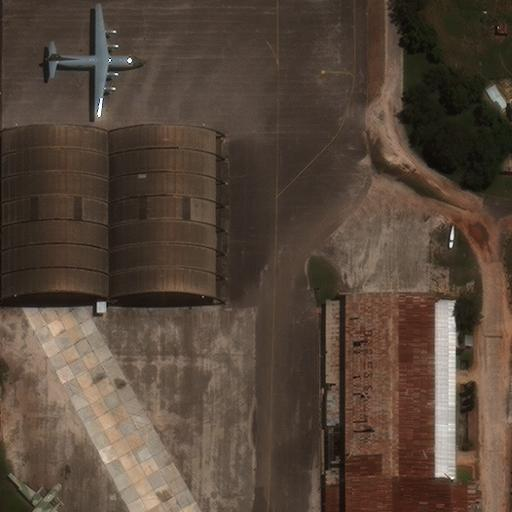Military Transport: (44, 4, 147, 116), (11, 473, 70, 511)
